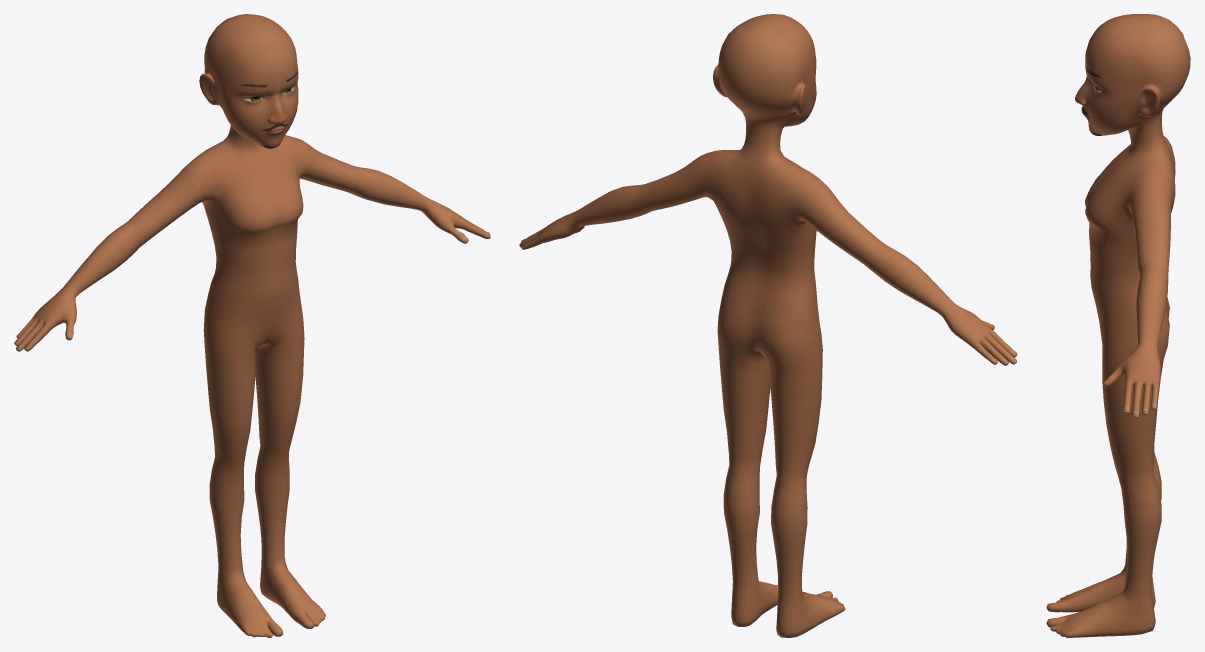
The model's file is frame_0081.glb.
3 renders of one model, left to right at view 1: azimuth 30°, elevation 25°; view 2: azimuth 150°, elevation 25°; view 3: azimuth 270°, elevation 25°, orthographic. The views are drawn at different scales.
Parts seen in each view (by area): view 1: frame_0081_head_geo; view 2: frame_0081_head_geo; view 3: frame_0081_head_geo.
Part boxes in pixels (left/top/right/bottom): frame_0081_head_geo: left=14, top=14, right=490, bottom=637; frame_0081_head_geo: left=519, top=14, right=1017, bottom=637; frame_0081_head_geo: left=1046, top=14, right=1190, bottom=637.
Bounding box in the file's own units: 1.28 × 1.5 × 0.3253.
Materials: 3 (3 with a texture image).
